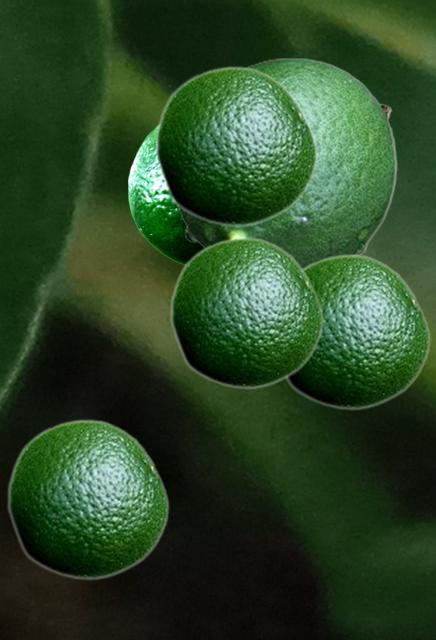calamansi: (174, 57, 396, 266), (6, 418, 169, 580), (154, 65, 317, 227), (169, 236, 323, 389), (285, 253, 430, 410), (128, 127, 201, 264)
